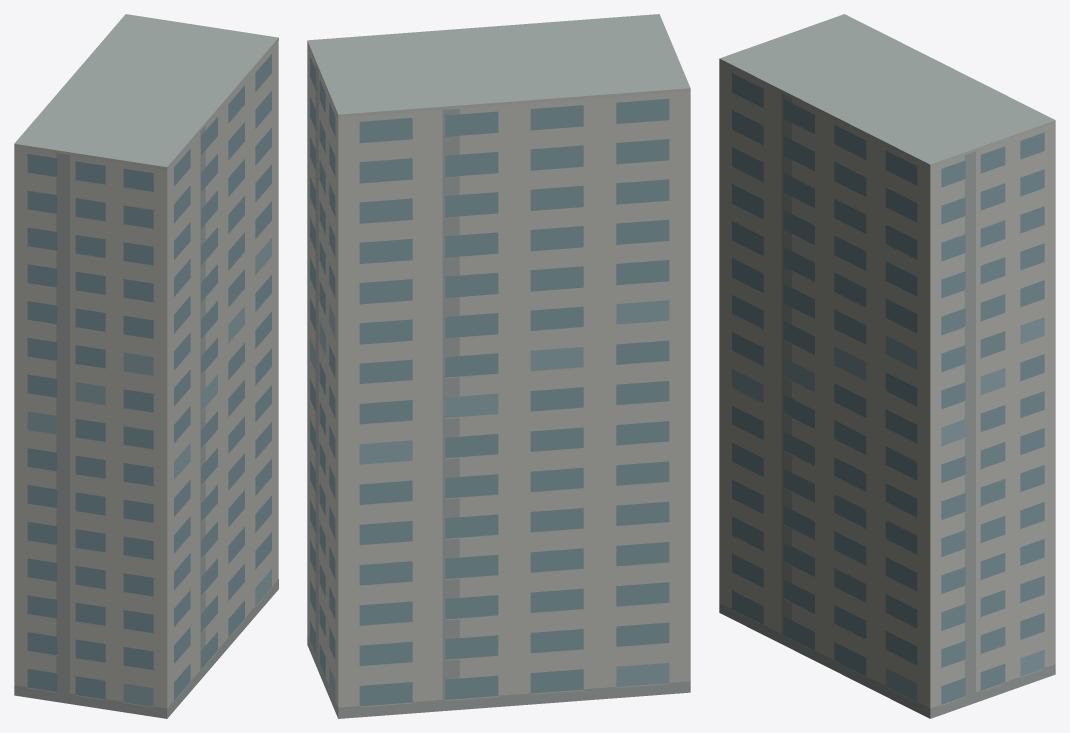
The model's file is residential-3a3d0f17-2a96-4606-a2a6-aa491d1e62d9.glb.
3 views of the same model, side by side, from view 1: azimuth 30°, elevation 25°; view 2: azimuth 150°, elevation 25°; view 3: azimuth 270°, elevation 25° (orthographic). The views are drawn at different scales.
Visible parts, largest first — view 1: residential-3a3d0f17-2a96-4606-a2a6-aa491d1e62d9.tmp; view 2: residential-3a3d0f17-2a96-4606-a2a6-aa491d1e62d9.tmp; view 3: residential-3a3d0f17-2a96-4606-a2a6-aa491d1e62d9.tmp.
Part boxes in pixels (box(x1,y1,x2,y2)): residential-3a3d0f17-2a96-4606-a2a6-aa491d1e62d9.tmp: box(14, 14, 278, 718); residential-3a3d0f17-2a96-4606-a2a6-aa491d1e62d9.tmp: box(307, 14, 690, 718); residential-3a3d0f17-2a96-4606-a2a6-aa491d1e62d9.tmp: box(719, 14, 1055, 718).
Bounding box in the file's own units: 26.82 × 46 × 25.3.
